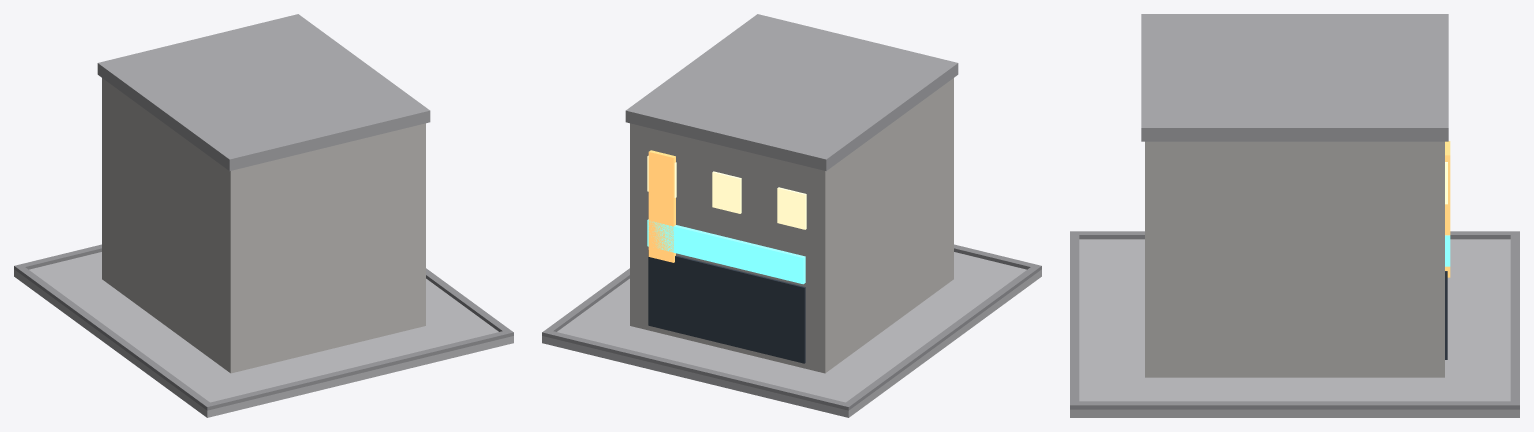
The model's file is bt-shophouse-2.glb.
3 renders of one model, left to right at view 1: azimuth 30°, elevation 25°; view 2: azimuth 150°, elevation 25°; view 3: azimuth 270°, elevation 25°, orthographic. The views are drawn at different scales.
Visible parts, largest first — view 1: body, roofedge, skirt_slab, skirt_curb_s, skirt_curb_w, skirt_curb_e, skirt_curb_n; view 2: body, roofedge, skirt_slab, storefront, hsign, vsign, skirt_curb_n, skirt_curb_w, win_1, win_0, skirt_curb_e, skirt_curb_s; view 3: body, roofedge, skirt_slab, skirt_curb_e, skirt_curb_n, skirt_curb_s, skirt_curb_w, vsign.
Boxes of the visible parts, x1,y1,x2,y2 form: body: (102, 78, 425, 373); roofedge: (97, 14, 430, 170); skirt_slab: (14, 252, 513, 417); skirt_curb_s: (203, 329, 513, 410); skirt_curb_w: (18, 267, 209, 407); skirt_curb_e: (426, 268, 509, 331); skirt_curb_n: (14, 244, 101, 271); body: (630, 78, 953, 373); roofedge: (625, 14, 958, 170); skirt_slab: (542, 252, 1041, 417); storefront: (648, 250, 805, 363); hsign: (647, 219, 805, 284); vsign: (648, 150, 675, 262); skirt_curb_n: (542, 329, 852, 410); skirt_curb_w: (846, 267, 1037, 407); win_1: (712, 171, 741, 213); win_0: (777, 187, 806, 229); skirt_curb_e: (546, 268, 629, 331); skirt_curb_s: (954, 244, 1041, 271); body: (1145, 141, 1444, 377); roofedge: (1141, 14, 1448, 141); skirt_slab: (1070, 239, 1519, 417); skirt_curb_e: (1079, 401, 1510, 409); skirt_curb_n: (1510, 231, 1519, 409); skirt_curb_s: (1070, 231, 1079, 409); skirt_curb_w: (1079, 231, 1510, 239); vsign: (1445, 141, 1450, 277).
Bounding box in the file's own units: 11 × 7.65 × 12.
